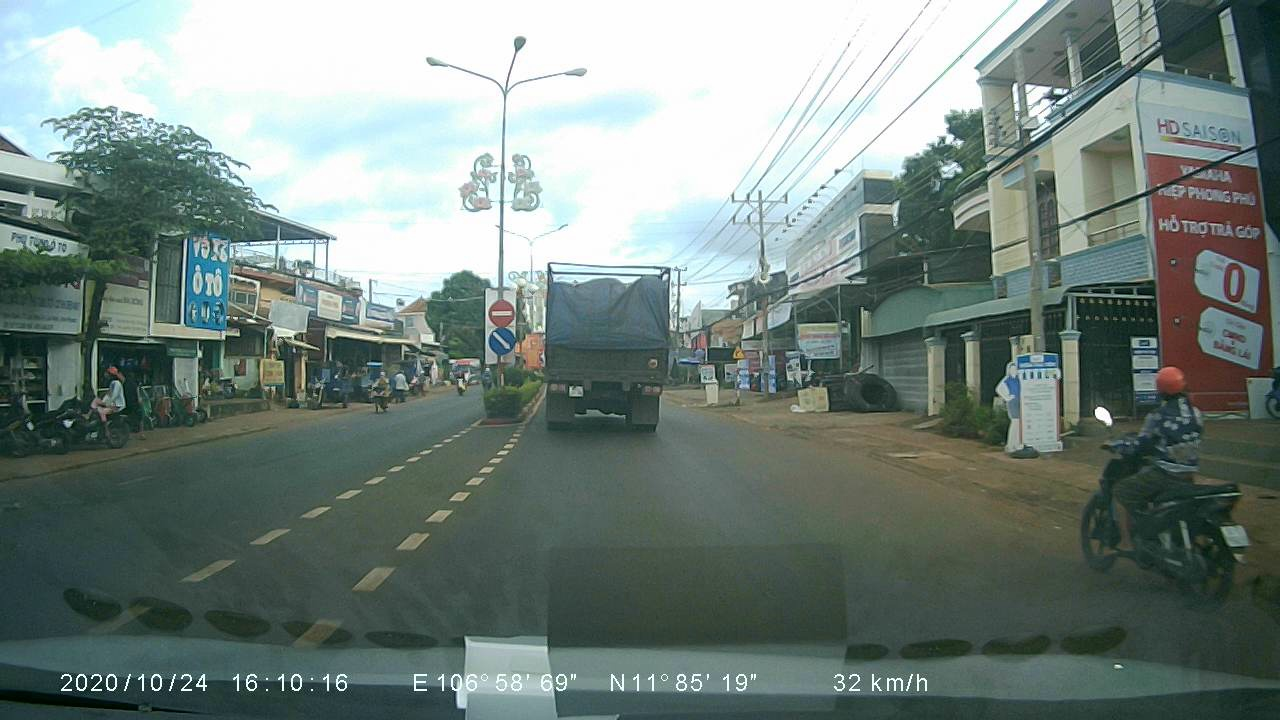Cam di nguoc chieu: (486, 296, 517, 326)
Huong di phai re phai: (485, 327, 518, 356)
